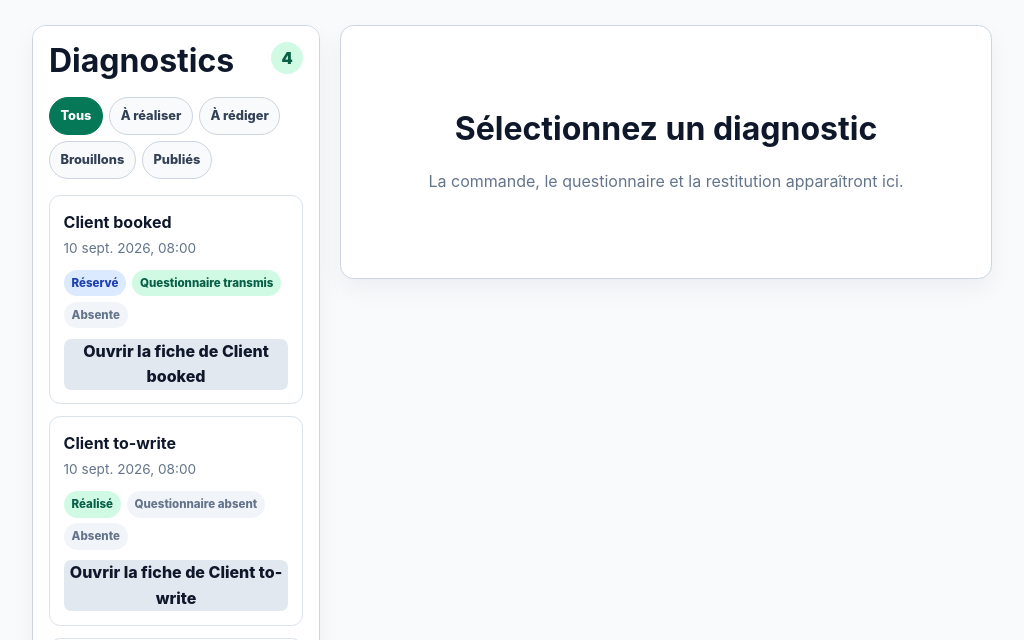
Scenario: administration des Diagnostics IA et restitutions › charge les disponibilités et exige la confirmation ancien/nouveau avant déplacement
Click the button "Ouvrir la fiche de Client booked": (176, 364) [64,339,288,390]
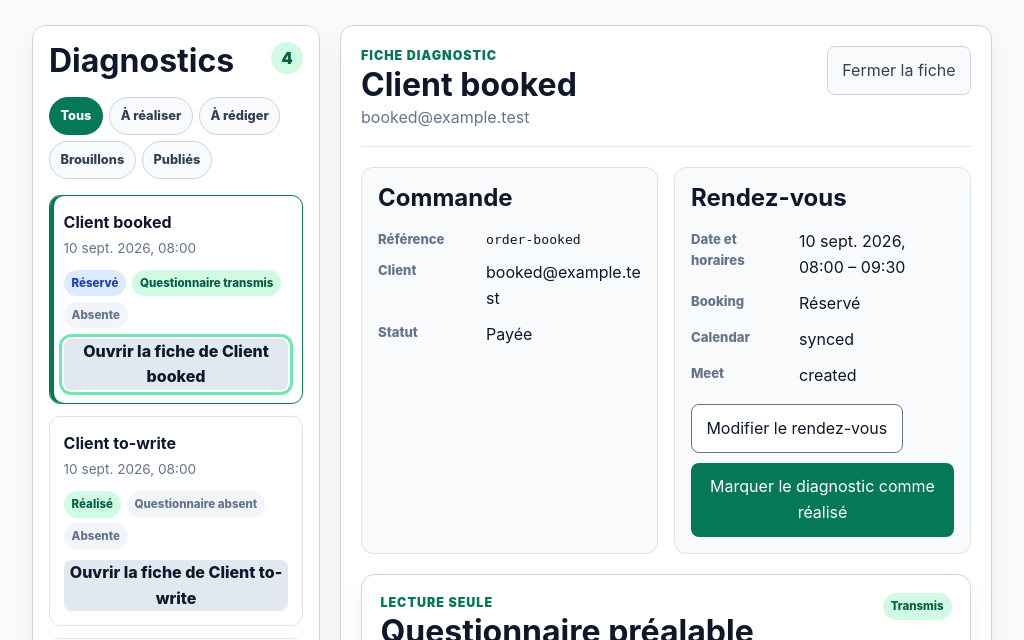
Check: the heading "Client booked" is shown, box [361,66,577,105]
Click the button "Modifier le rendez-vous": (797, 428) [691,404,903,453]
(page scrolled)
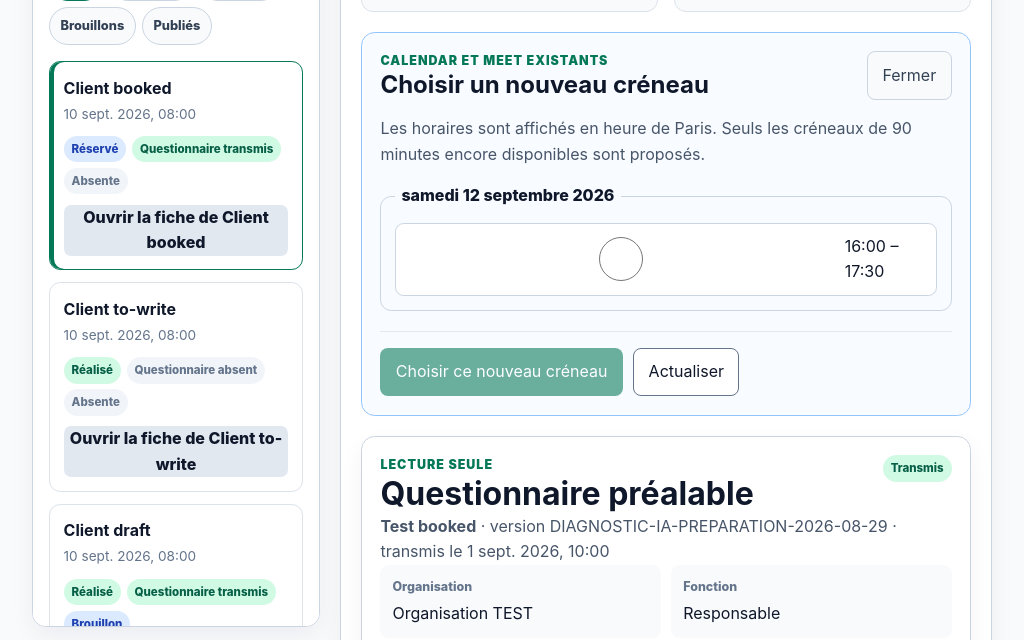
Check: the number of radio buttons is 1
Click the radio button: (621, 260) [406,238,836,282]
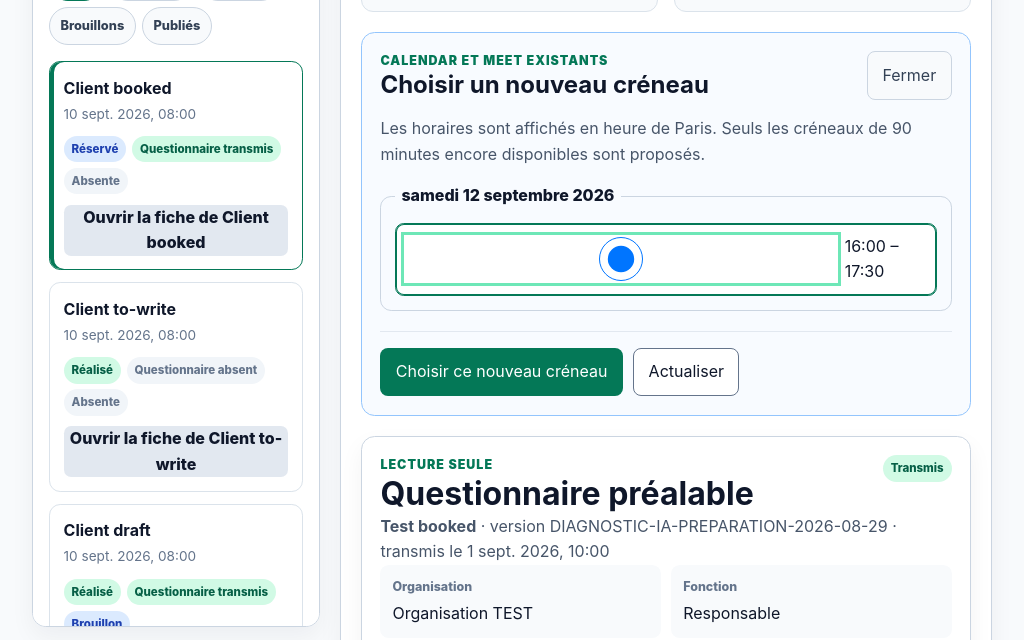
Click the button "Choisir ce nouveau créneau": (502, 372) [380,348,623,396]
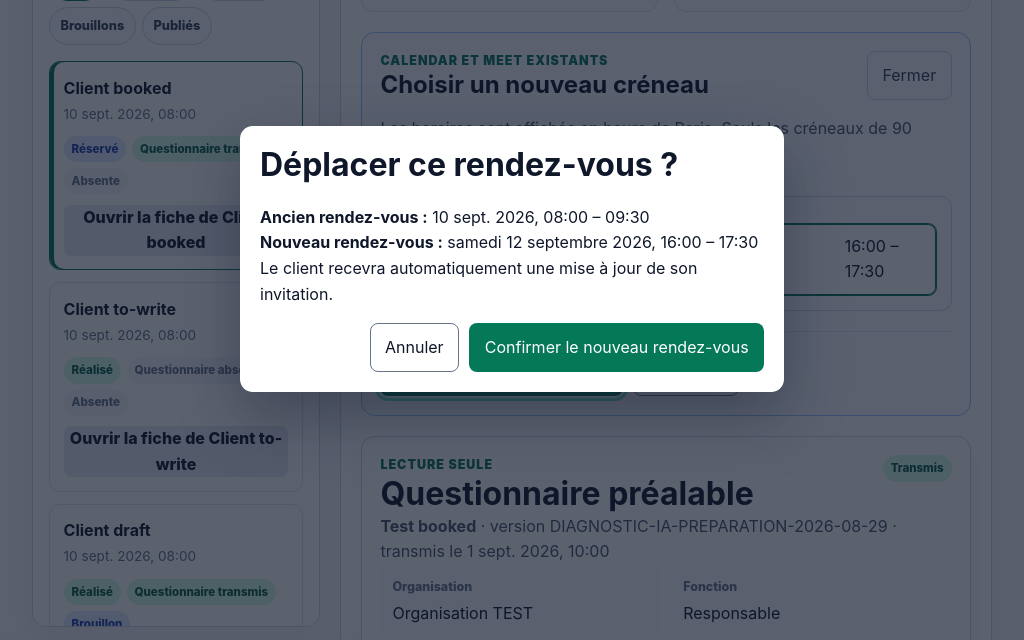
Check: the dialog "Déplacer ce rendez-vous ?" shows "Ancien rendez-vous", box [260,207,428,227]
Check: the dialog "Déplacer ce rendez-vous ?" shows "Nouveau rendez-vous", box [260,232,443,252]
Check: the dialog "Déplacer ce rendez-vous ?" shows "mise à jour de son invitation", box [260,258,697,304]
Click the button "Confirmer le nouveau rendez-vous": (617, 347) [469,323,764,372]
(page scrolled)
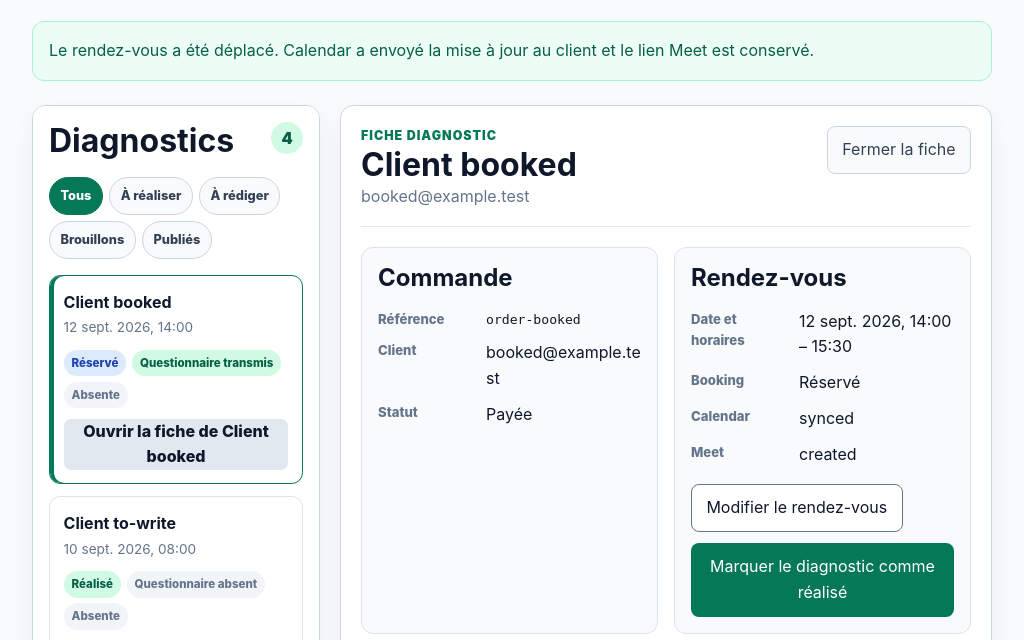
Check: the message shows "rendez-vous a été déplacé", box [49,40,814,60]
